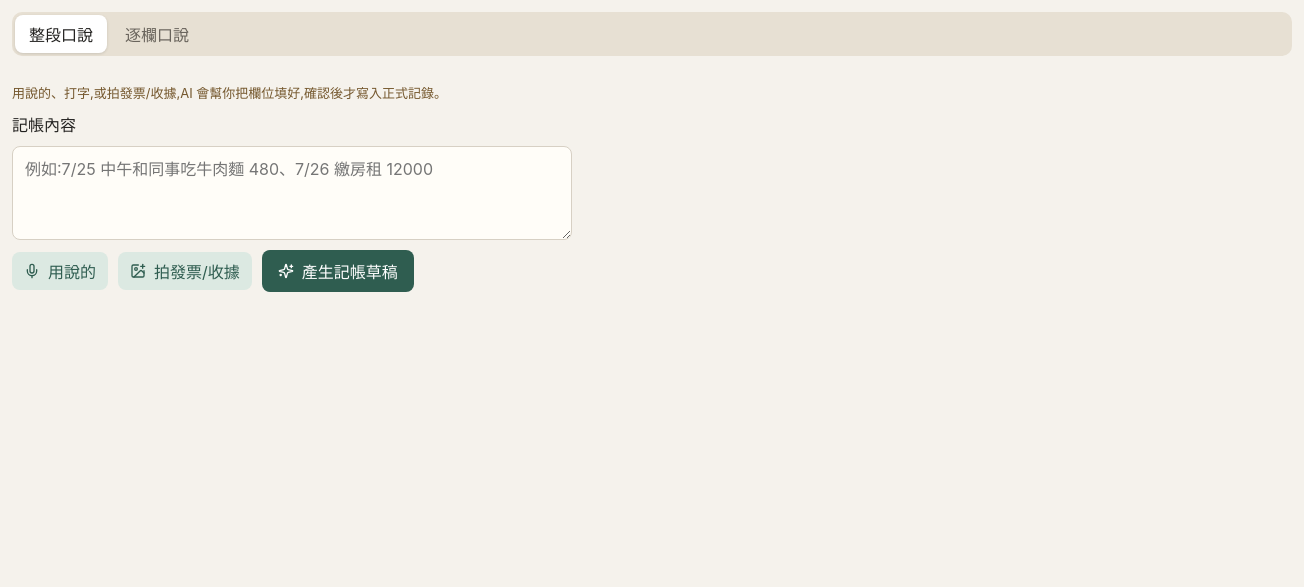
Scenario: AiLedgerPanel › uses a guidance heading when every suggestion is invalid
Type "測試 100" into the text box labelled "記帳內容" at (292, 193), box [12,146,572,240]
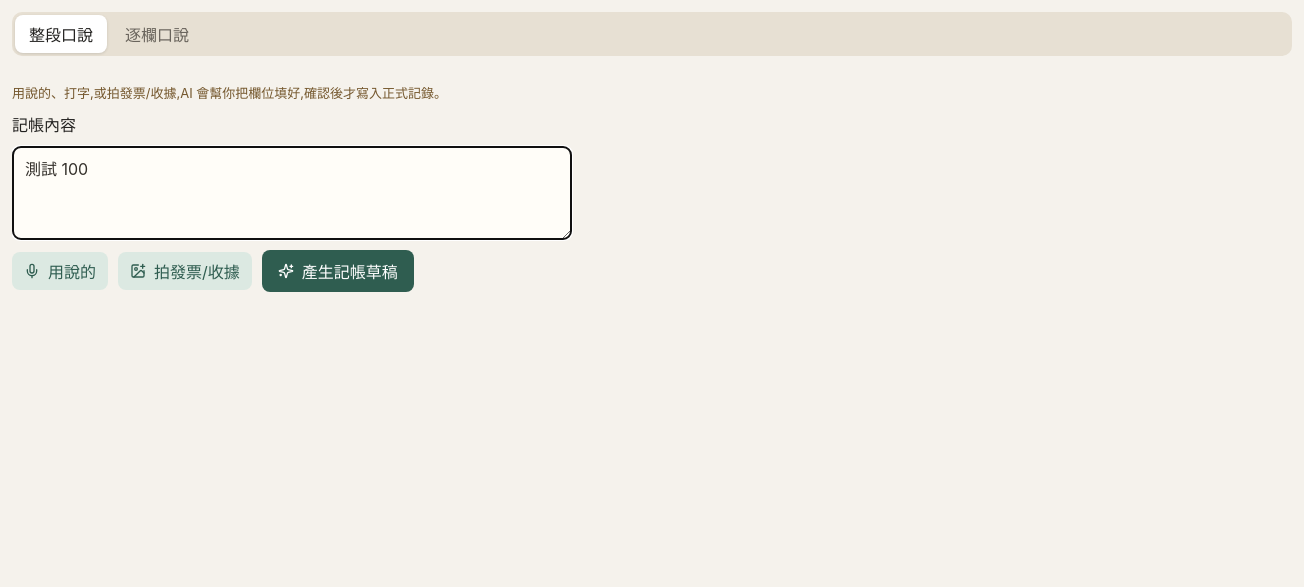
Click the button "產生記帳草稿" at (338, 271), box [262,250,414,292]
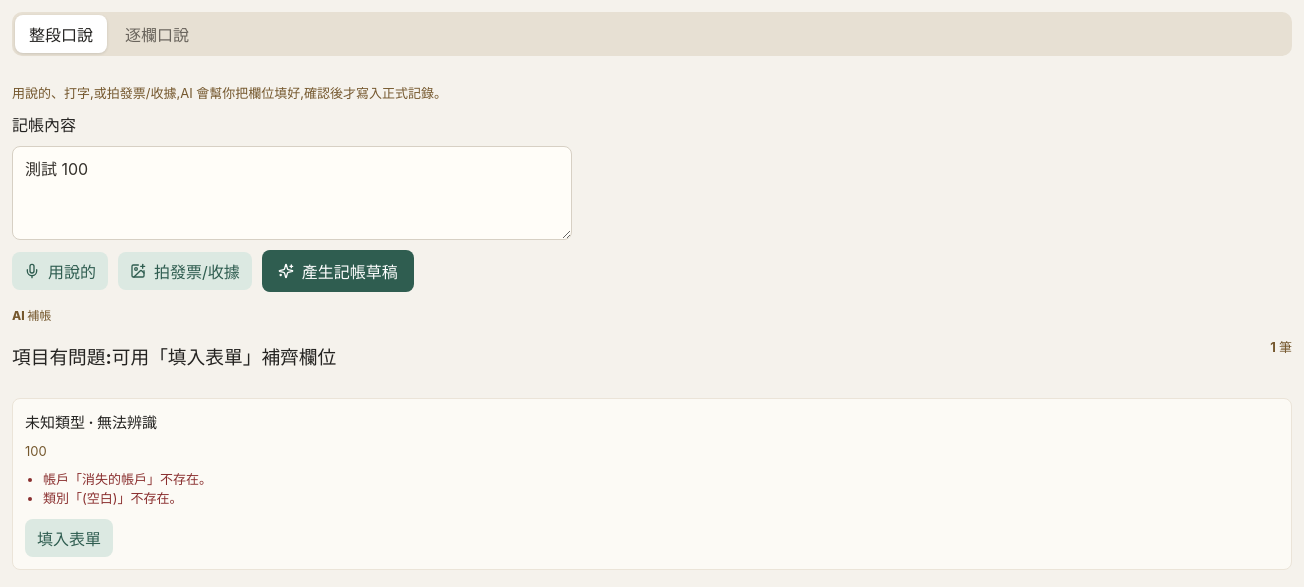
Expected: the heading "項目有問題:可用「填入表單」補齊欄位" is shown, [12,342,336,369]
